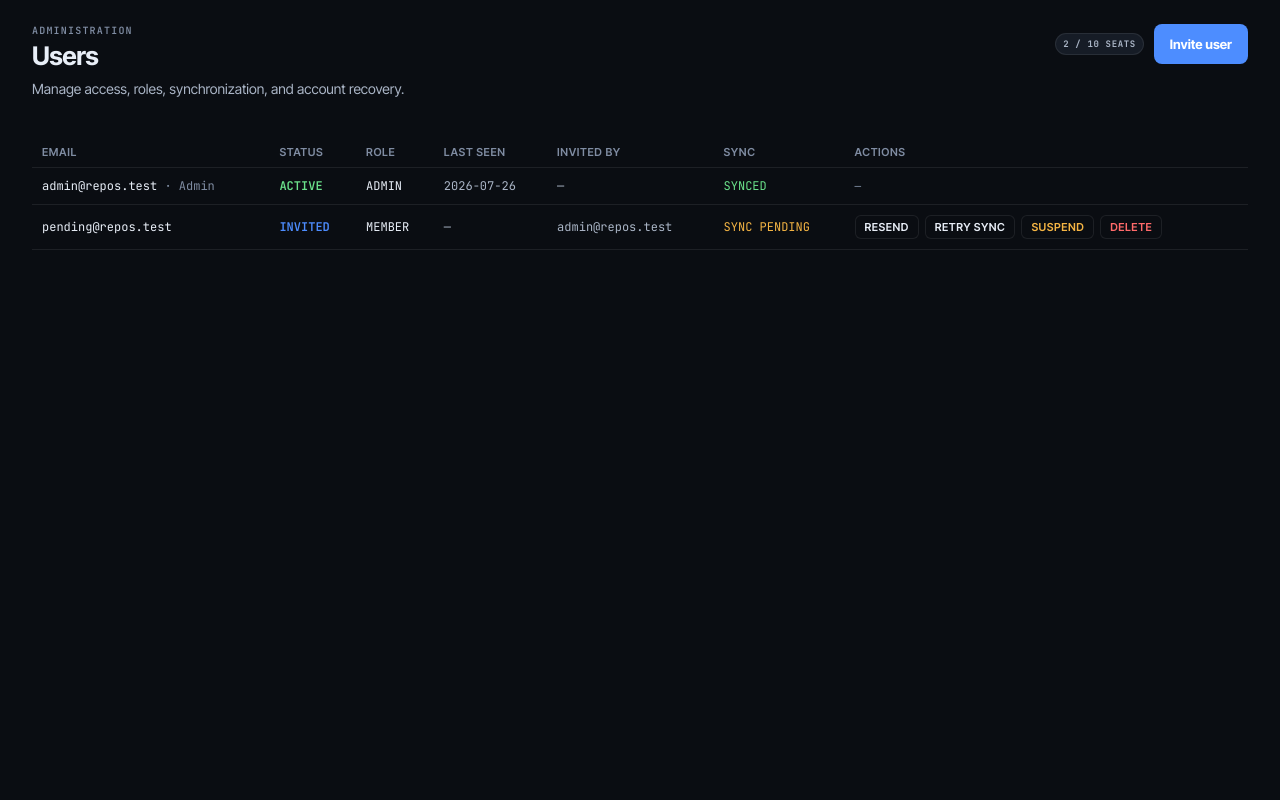
it: SettingsUsersPage › surfaces a 409 cohort_cap_reached with the count
Click the button "Invite user". click: click(1201, 44)
box: [1154,24,1248,64]
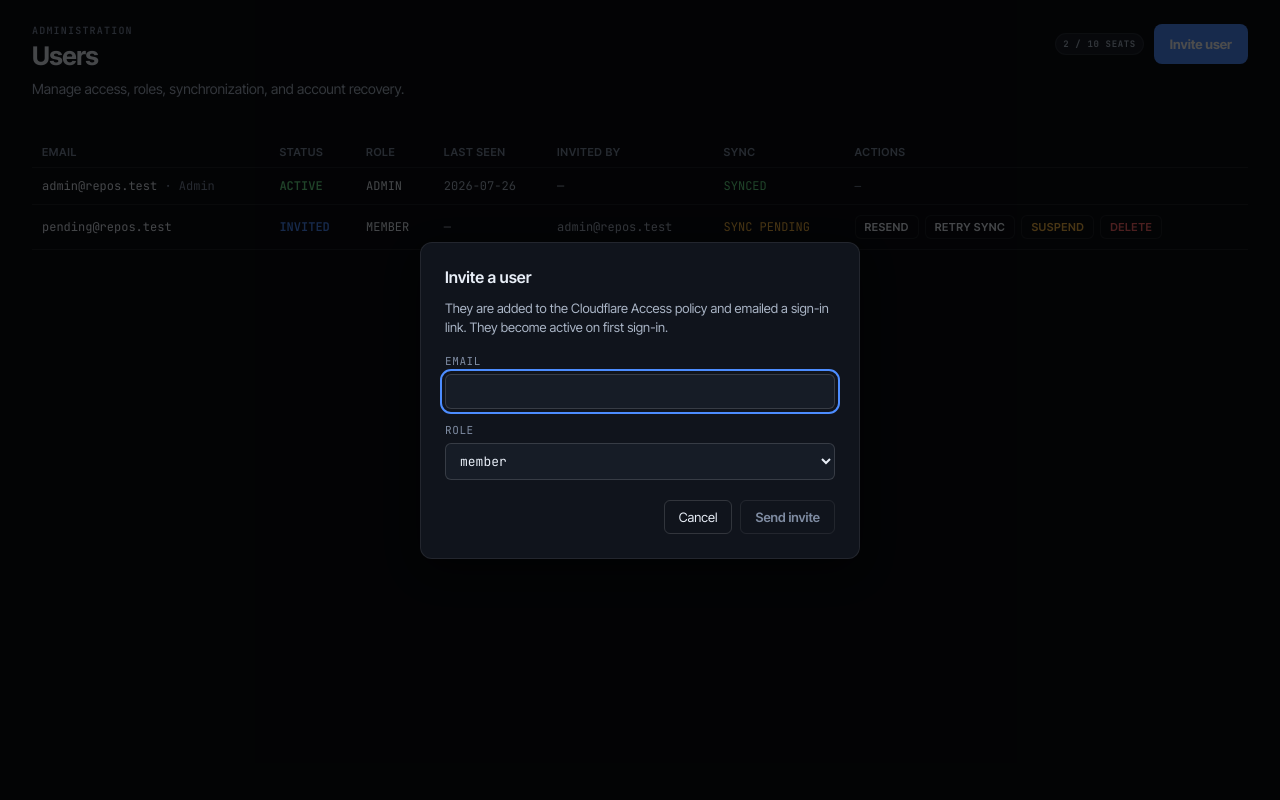
Type "new@repos.test" into the field labelled "Email". click: (640, 391)
box: [445,374,835,408]
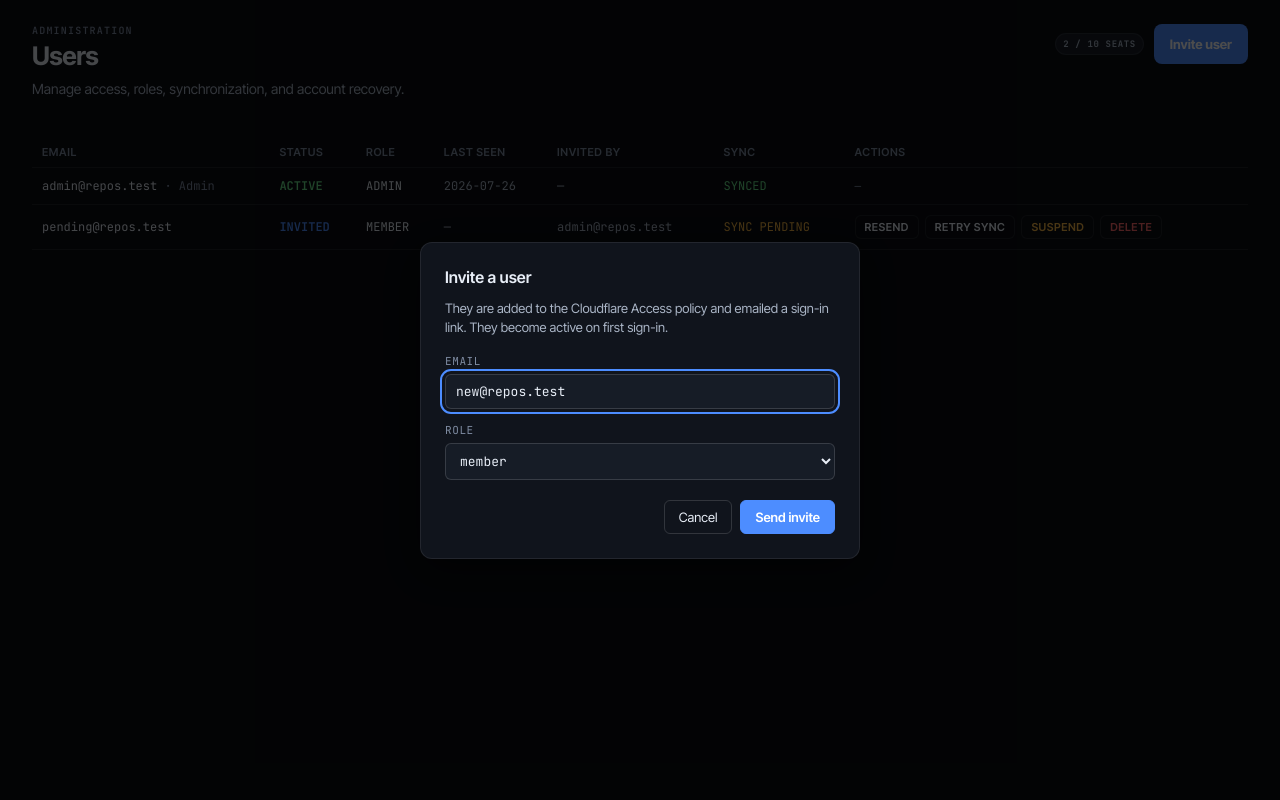
Click the button "Send invite". click: click(788, 516)
box: [740,500,835,534]
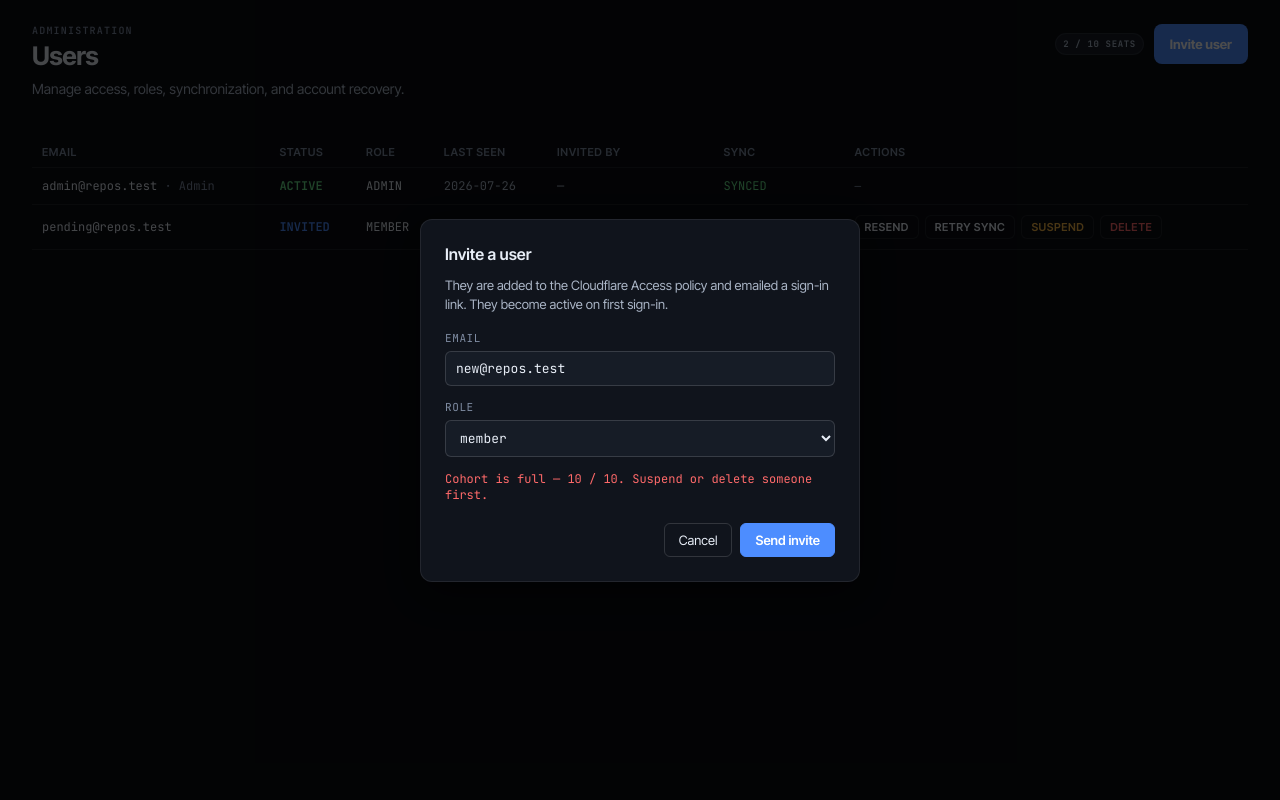
Result: the text "Cohort is full — 10 / 10. Suspend or delete someone first." is shown at [445,470,835,502]
